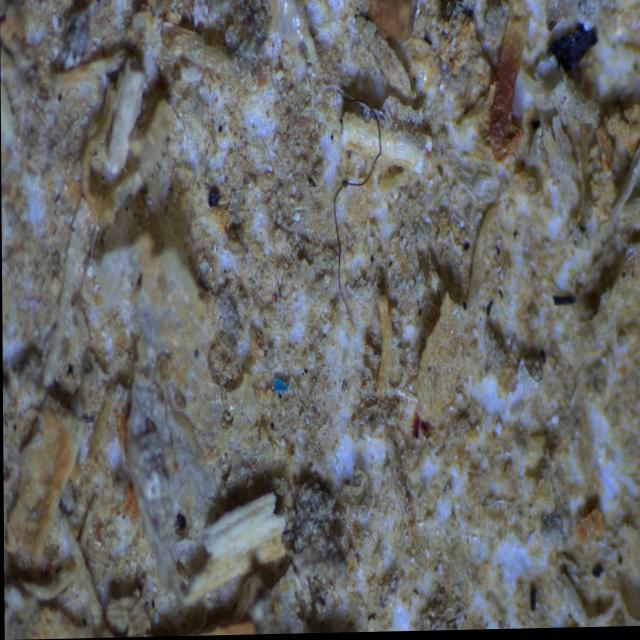microplastic: (330, 89, 385, 330), (265, 376, 290, 398)
